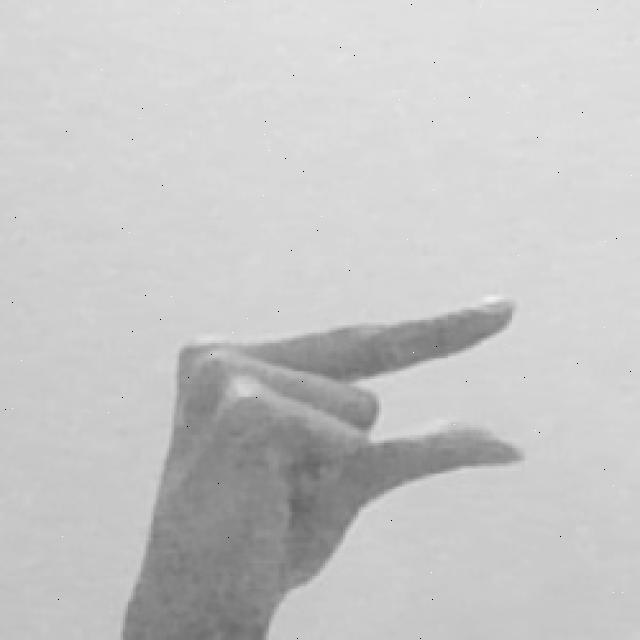G: (115, 292, 531, 640)
